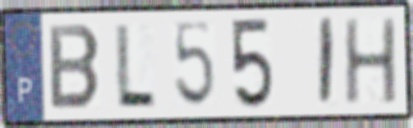5: (230, 16, 275, 112), (171, 19, 218, 110)
B: (47, 22, 104, 113)
H: (342, 15, 400, 107)
I: (316, 15, 337, 109)
L: (113, 21, 158, 110)
